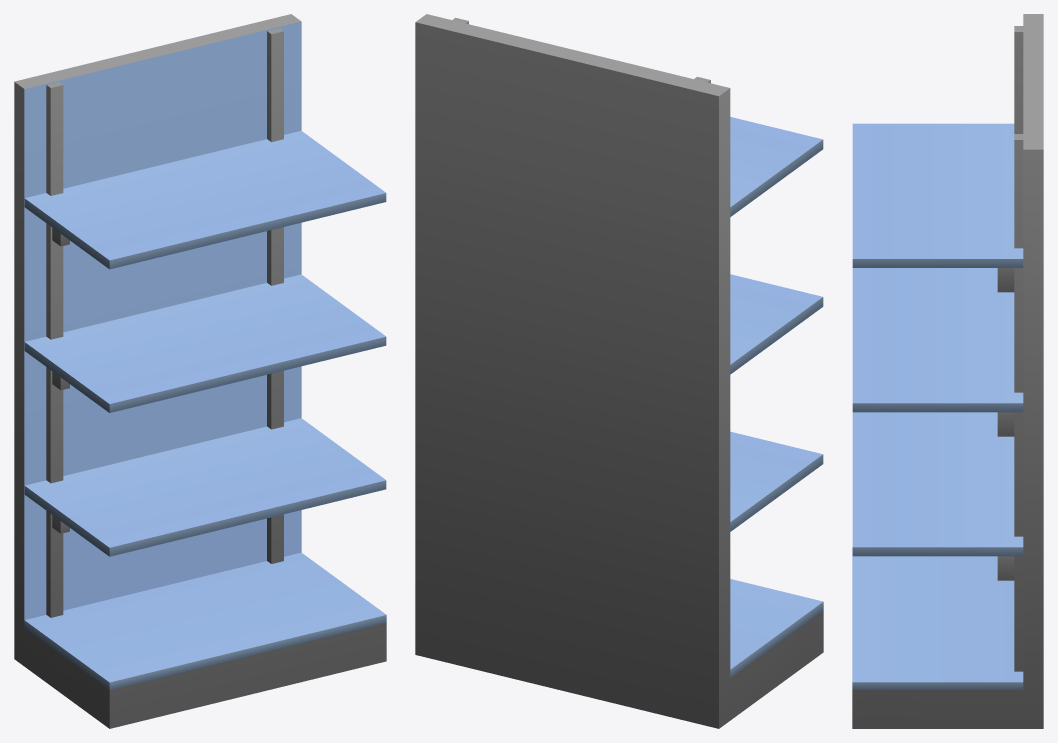
The model's file is shelf single.fbx.
3 views of the same model, side by side, from view 1: azimuth 30°, elevation 25°; view 2: azimuth 150°, elevation 25°; view 3: azimuth 270°, elevation 25° (orthographic). The views are drawn at different scales.
Visible parts, largest first — view 1: Cube.018; view 2: Cube.018; view 3: Cube.018.
Boxes of the visible parts, x1,y1,x2,y2 form: Cube.018: (14,14,386,728); Cube.018: (415,14,823,728); Cube.018: (852,14,1043,728).
Size of the model in its own units: 33.81 by 67.32 by 20.17.
Materials: 1 (1 with a texture image).
